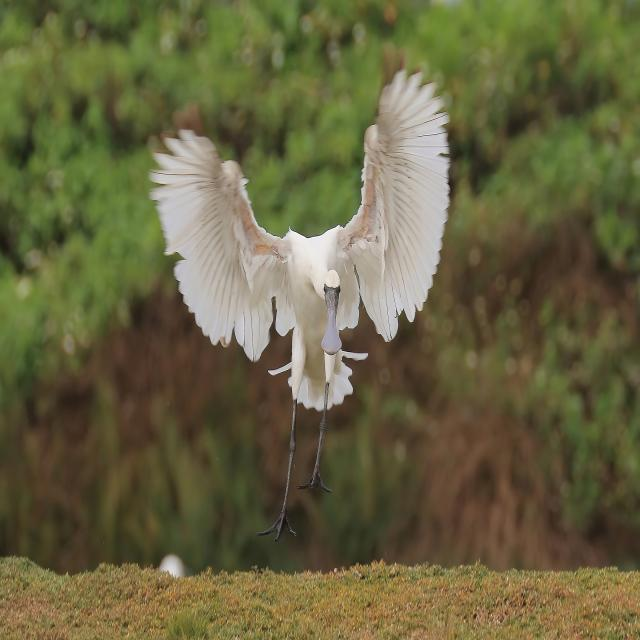Black-faced spoonbill: (151, 71, 449, 539)
